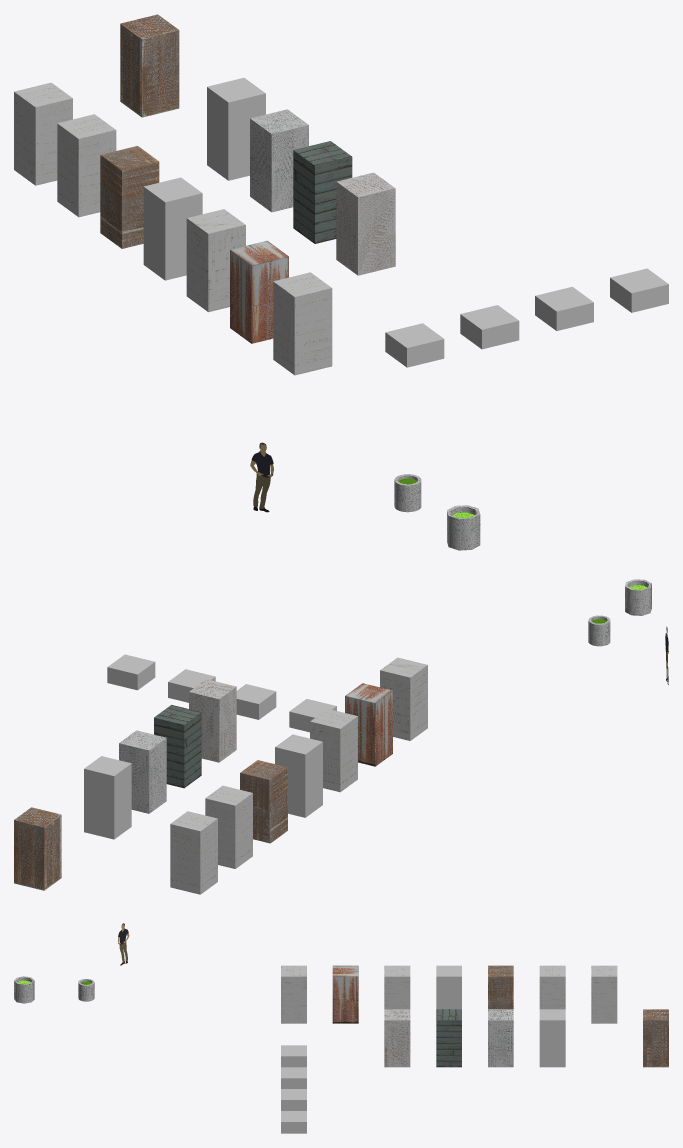
The model's file is diner.dae.
3 views of the same model, one above another, from view 1: azimuth 30°, elevation 25°; view 2: azimuth 150°, elevation 25°; view 3: azimuth 270°, elevation 25° (orthographic). The views are drawn at different scales.
Visible parts, largest first — view 1: SketchUp (×7), group_0, group_3, group_1, group_2, group_7, group_8, group_9, group_6, group_10, group_4, group_5; view 2: SketchUp (×7), group_10, group_6, group_8, group_9, group_0, group_1, group_3, group_7, group_2, group_4, group_5; view 3: SketchUp (×7), group_6, group_10, group_0, group_8, group_9, group_3, group_7, group_1, group_2, group_4, group_5.
Boxes of the visible parts, bbox=[...] form: SketchUp (×7): bbox=[120, 14, 668, 367]; group_0: bbox=[273, 272, 332, 375]; group_3: bbox=[57, 114, 116, 217]; group_1: bbox=[143, 177, 202, 280]; group_2: bbox=[100, 146, 159, 248]; group_7: bbox=[186, 209, 245, 312]; group_8: bbox=[293, 141, 352, 243]; group_9: bbox=[250, 109, 308, 212]; group_6: bbox=[14, 82, 72, 185]; group_10: bbox=[207, 77, 265, 180]; group_4: bbox=[447, 505, 480, 550]; group_5: bbox=[394, 474, 421, 512]; SketchUp (×7): bbox=[14, 654, 392, 890]; group_10: bbox=[84, 756, 131, 839]; group_6: bbox=[170, 811, 217, 894]; group_8: bbox=[154, 705, 201, 788]; group_9: bbox=[119, 730, 166, 813]; group_0: bbox=[380, 657, 427, 740]; group_1: bbox=[275, 734, 322, 817]; group_3: bbox=[205, 785, 252, 868]; group_7: bbox=[310, 708, 357, 792]; group_2: bbox=[240, 760, 287, 843]; group_4: bbox=[625, 579, 651, 615]; group_5: bbox=[588, 615, 610, 646]; SketchUp (×7): bbox=[281, 965, 668, 1133]; group_6: bbox=[591, 965, 617, 1023]; group_10: bbox=[539, 1009, 565, 1067]; group_0: bbox=[281, 965, 306, 1023]; group_8: bbox=[436, 1009, 461, 1067]; group_9: bbox=[488, 1009, 513, 1067]; group_3: bbox=[539, 965, 565, 1009]; group_7: bbox=[384, 965, 410, 1009]; group_1: bbox=[436, 965, 461, 1009]; group_2: bbox=[488, 965, 513, 1009]; group_4: bbox=[14, 976, 34, 1003]; group_5: bbox=[78, 979, 94, 1001].
Bounding box in the file's own units: 574 × 997 × 98.43.
